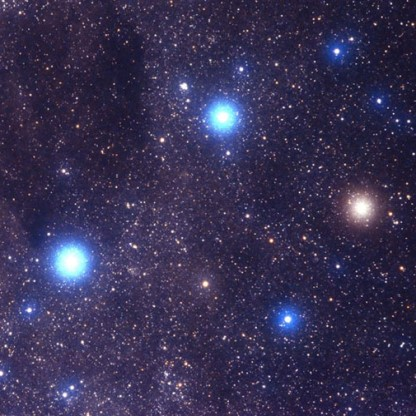Southern Cross: (47, 237, 95, 294), (262, 292, 307, 345), (201, 89, 247, 139), (336, 184, 386, 230)
